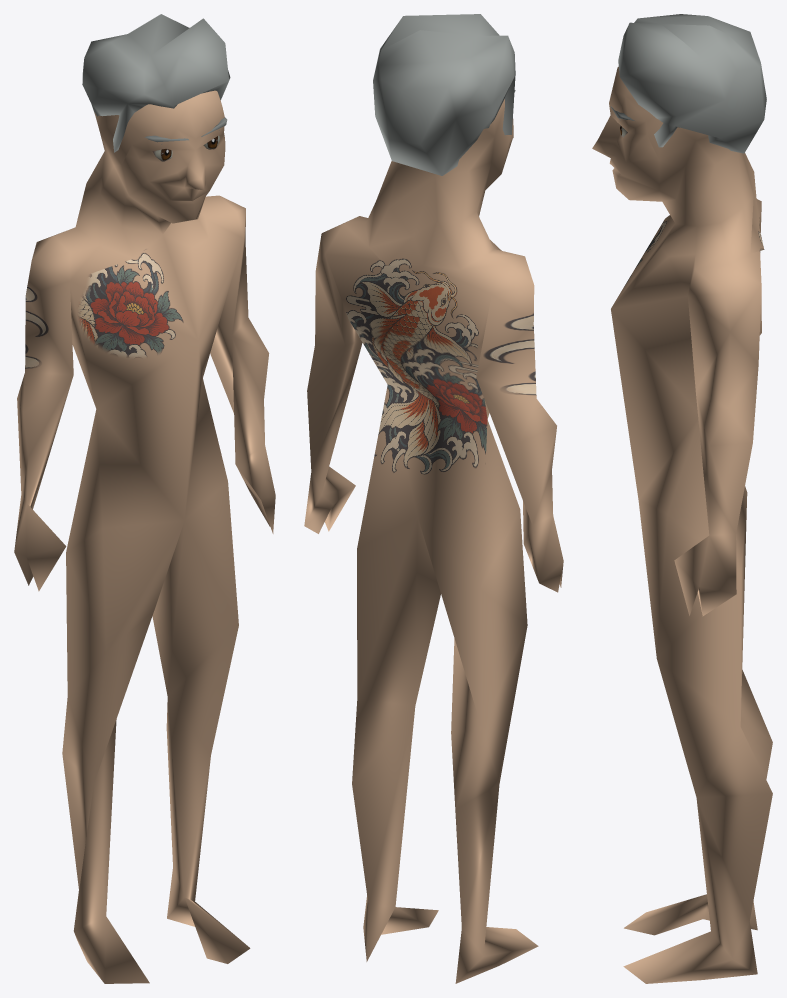
Rendered from npc_bath_tattooed_lod_far.glb.
3 views of the same model, side by side, from view 1: azimuth 30°, elevation 25°; view 2: azimuth 150°, elevation 25°; view 3: azimuth 270°, elevation 25° (orthographic).
Visible parts, largest first — view 1: npc_bath_tattooed_lod_far; view 2: npc_bath_tattooed_lod_far; view 3: npc_bath_tattooed_lod_far.
Boxes of the visible parts, x1,y1,x2,y2 form: npc_bath_tattooed_lod_far: (14,14,275,983); npc_bath_tattooed_lod_far: (304,14,563,983); npc_bath_tattooed_lod_far: (592,14,772,983).
Bounding box in the file's own units: 0.4486 × 1.6 × 0.2802.
Materials: 1 (1 with a texture image).
